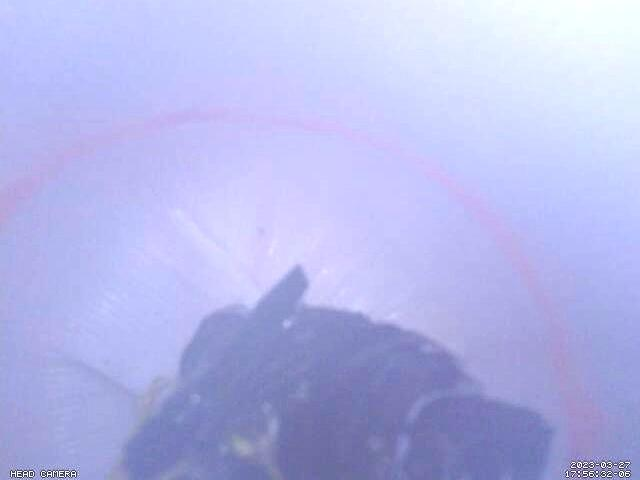head: (1, 102, 596, 480)
